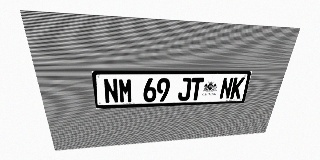6: (143, 78, 157, 102)
9: (156, 78, 170, 102)
J: (177, 78, 192, 101)
K: (230, 77, 245, 99)
M: (118, 78, 133, 103)
N: (103, 78, 119, 104), (219, 77, 234, 99)
T: (190, 78, 204, 100)
